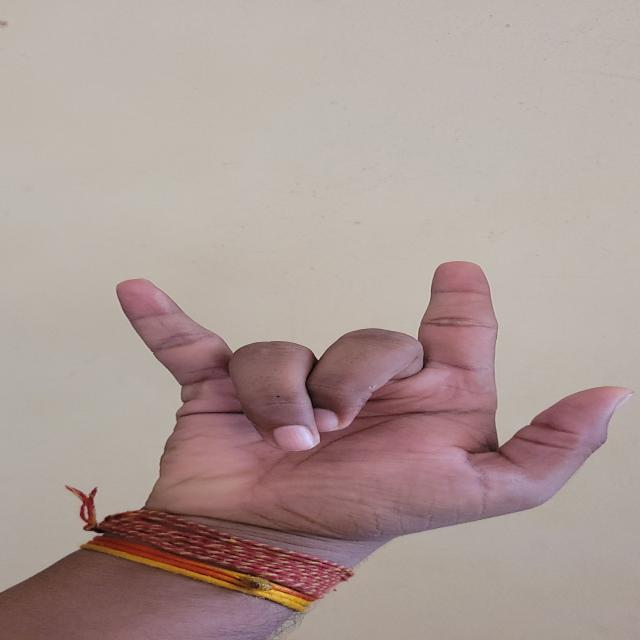i like you: (43, 247, 640, 571)
